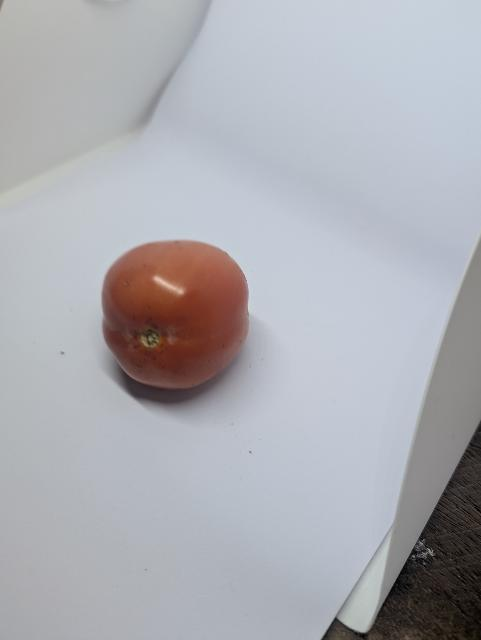red: (79, 226, 278, 417)
